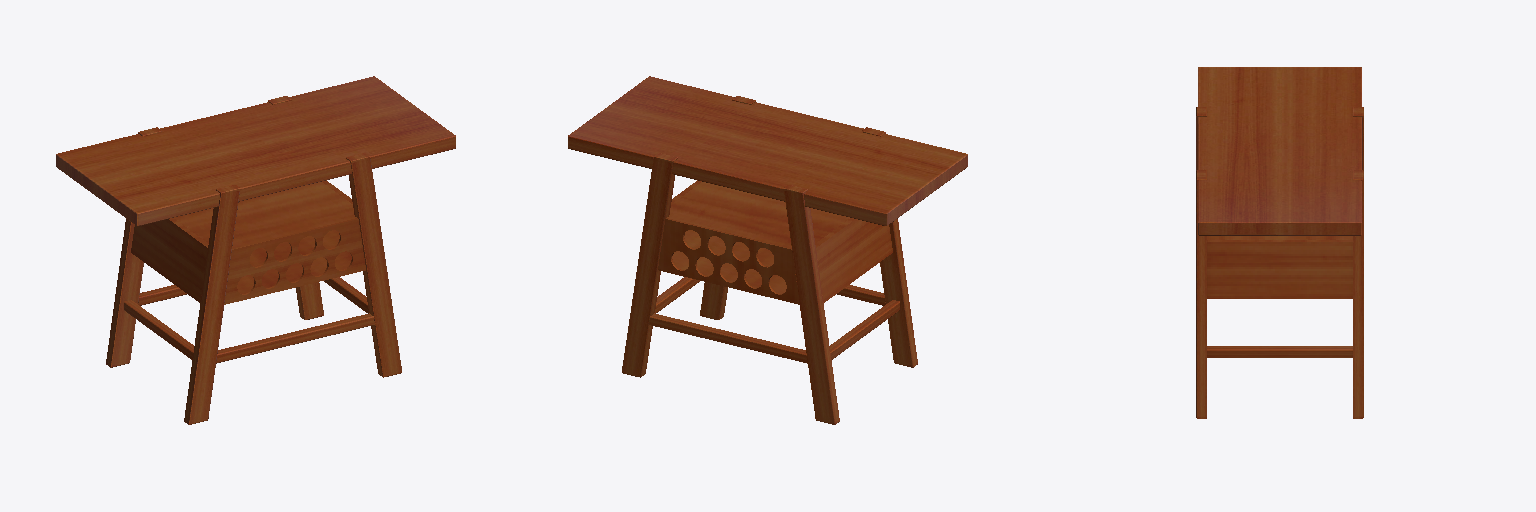
3 views of the same model, side by side, from view 1: azimuth 30°, elevation 25°; view 2: azimuth 150°, elevation 25°; view 3: azimuth 270°, elevation 25° (orthographic).
Parts seen in each view (by area): view 1: solid_001; view 2: solid_001; view 3: solid_001.
Boxes of the visible parts, x1,y1,x2,y2 form: solid_001: [56, 76, 455, 424]; solid_001: [568, 76, 967, 424]; solid_001: [1196, 67, 1363, 418].
Bounding box in the file's own units: 1.71 × 1.15 × 0.7724.
Materials: 1 (1 with a texture image).